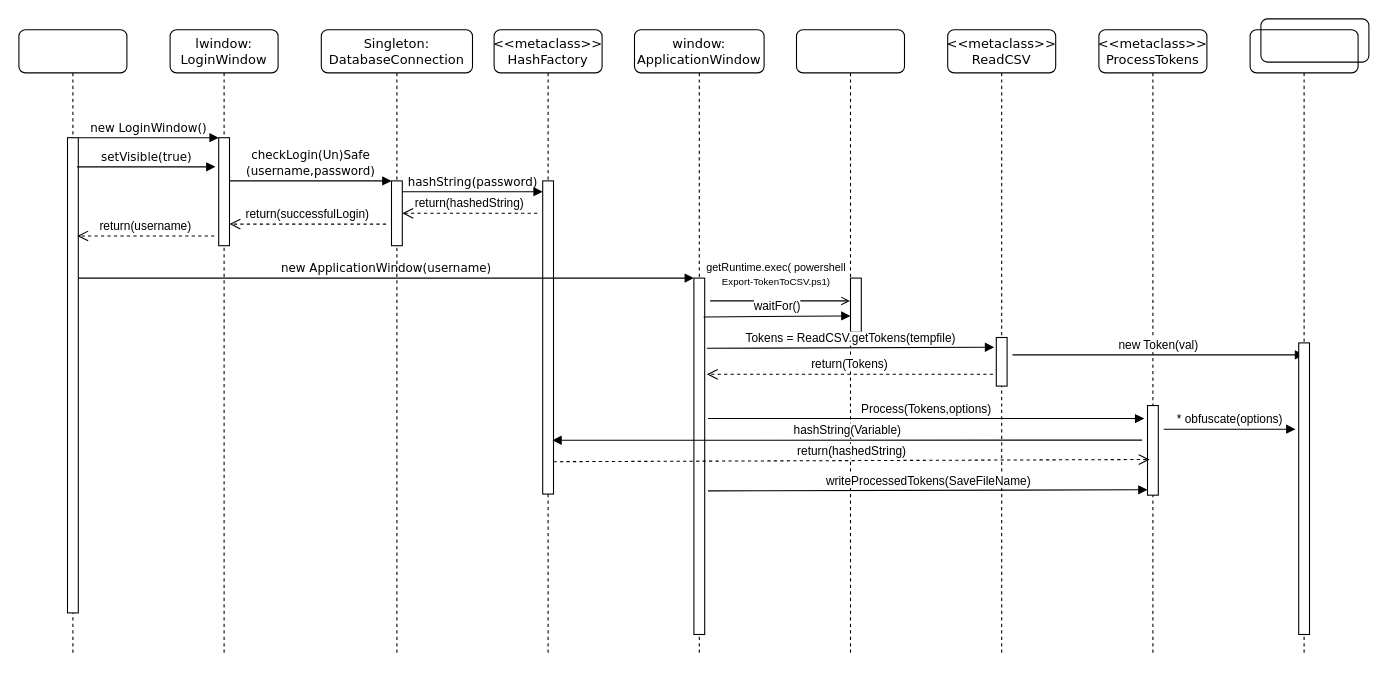
Some shapes in this 1388 by 675 pixel diagram are drawn without their labels. The box of each missing label's shape, as (x1, y1, x2, y2) in pixels:
p:Runtime: (795, 29, 905, 656)
Start: (18, 29, 127, 656)
Tokens: Token: (1249, 29, 1358, 656)
